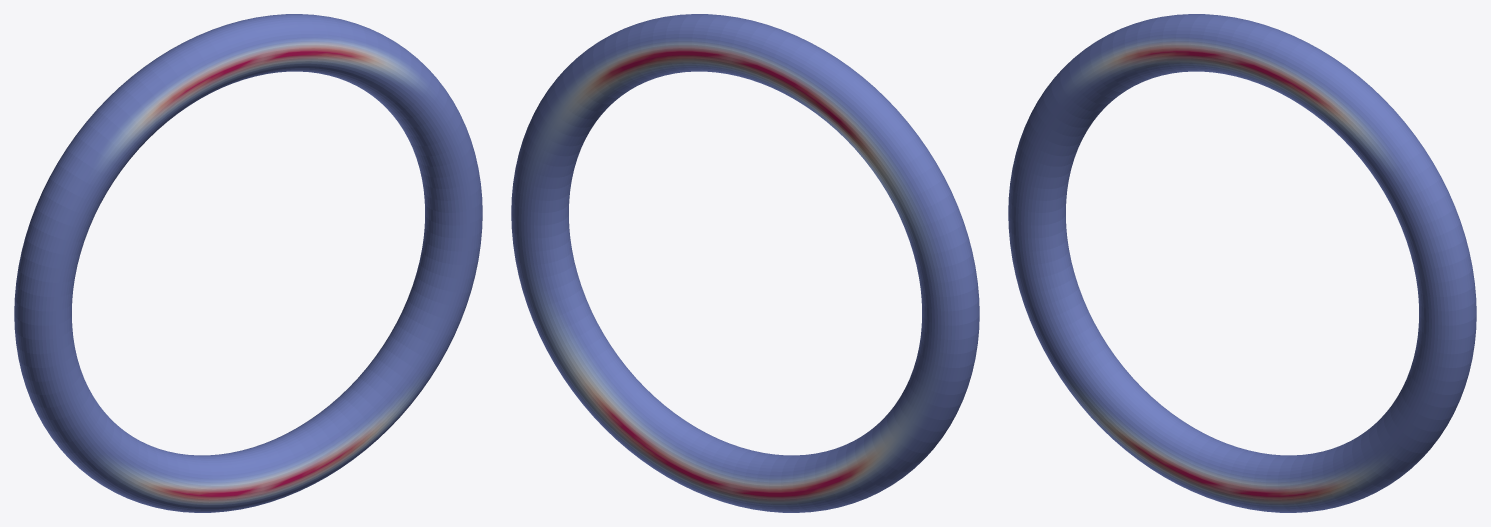
3 views of the same model, side by side, from view 1: azimuth 30°, elevation 25°; view 2: azimuth 150°, elevation 25°; view 3: azimuth 330°, elevation 25° (orthographic).
Visible parts, largest first — view 1: world; view 2: world; view 3: world.
Part boxes in pixels (box(x1,y1,x2,y2)): world: box(14, 14, 482, 512); world: box(511, 14, 979, 512); world: box(1008, 14, 1476, 512).
Bounding box in the file's own units: 20.93 × 20.93 × 2.26.
